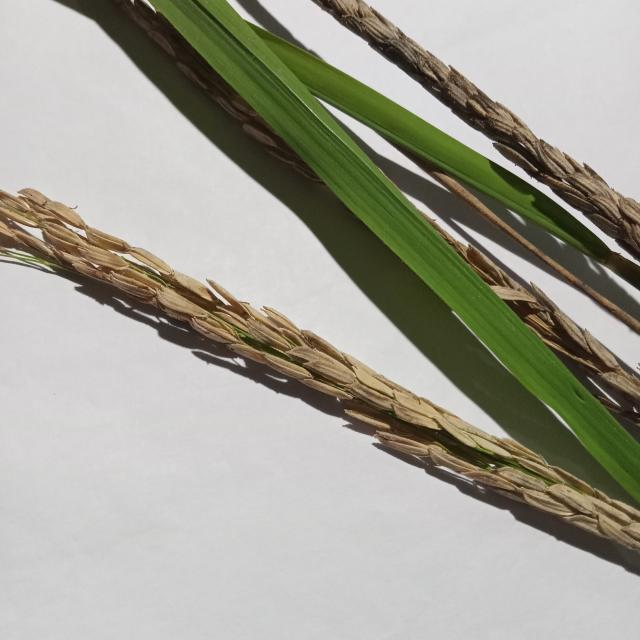Neck_Blast: (0, 188, 640, 557), (304, 0, 640, 240), (444, 238, 640, 448)
